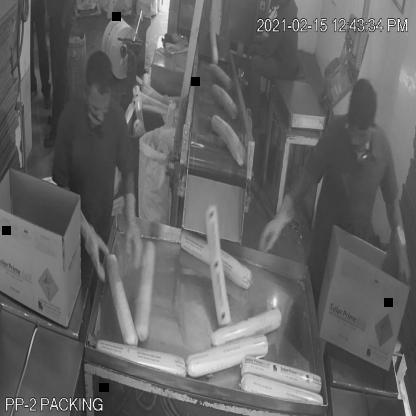glove: (114, 164, 150, 281), (254, 187, 302, 273), (75, 199, 110, 288), (383, 230, 416, 292)
no_glove: (236, 45, 275, 71)
